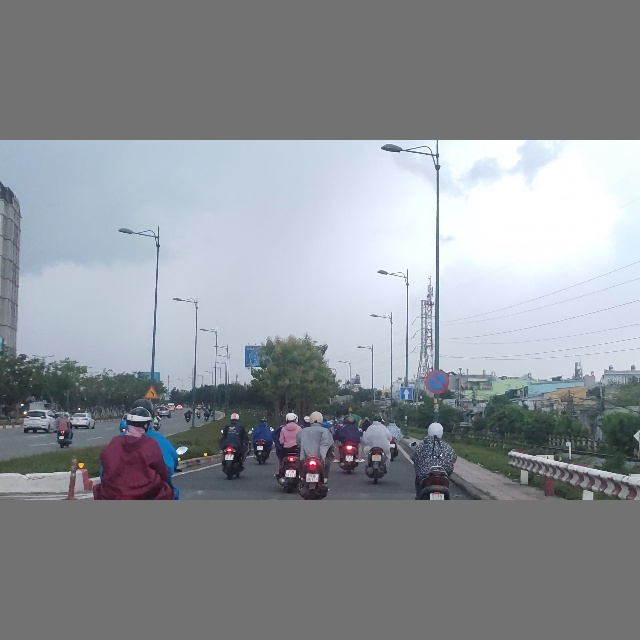I.407a: (400, 388, 413, 400)
P.131a: (425, 370, 449, 393)
W.201a: (145, 385, 159, 399)
